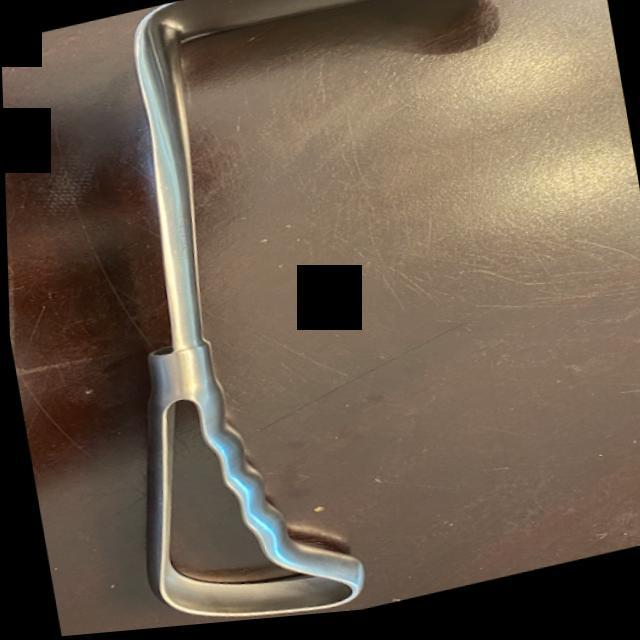Kelly Retractor: (37, 0, 640, 637)
